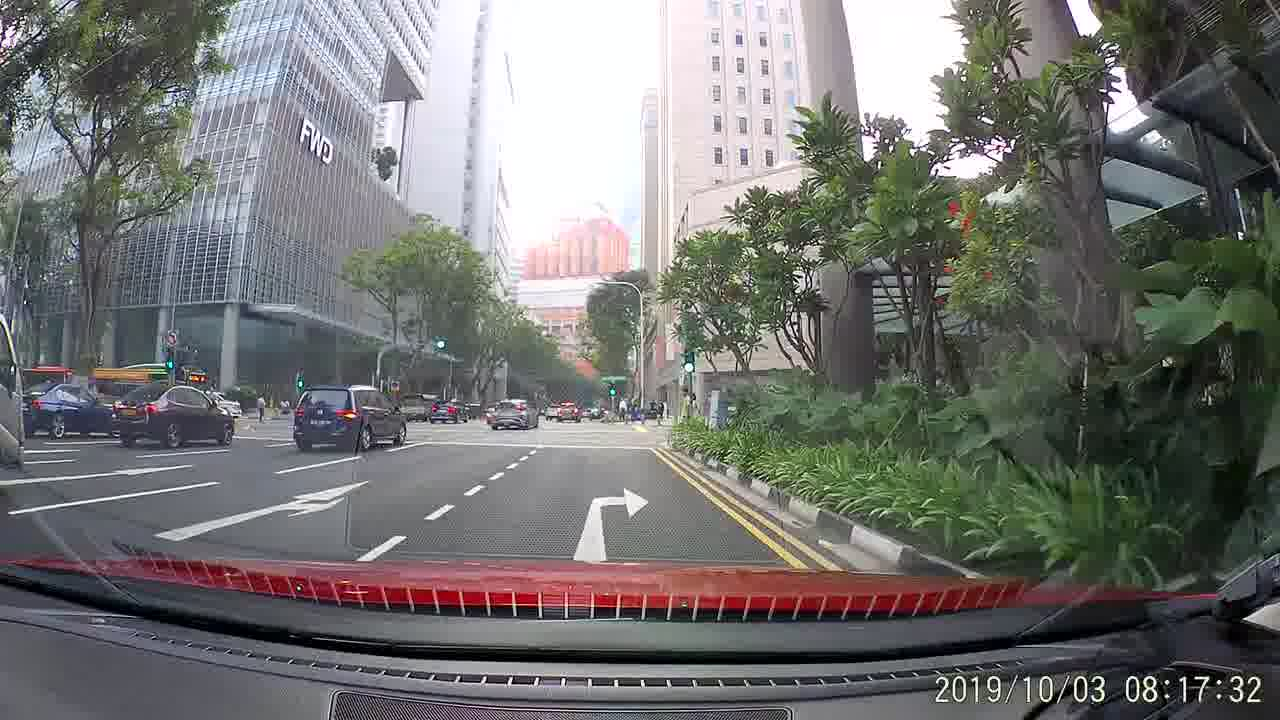bus: (92, 364, 207, 393)
car: (112, 380, 234, 453), (295, 381, 408, 447), (27, 383, 110, 441), (486, 393, 541, 430), (429, 400, 469, 425), (555, 402, 584, 422)
